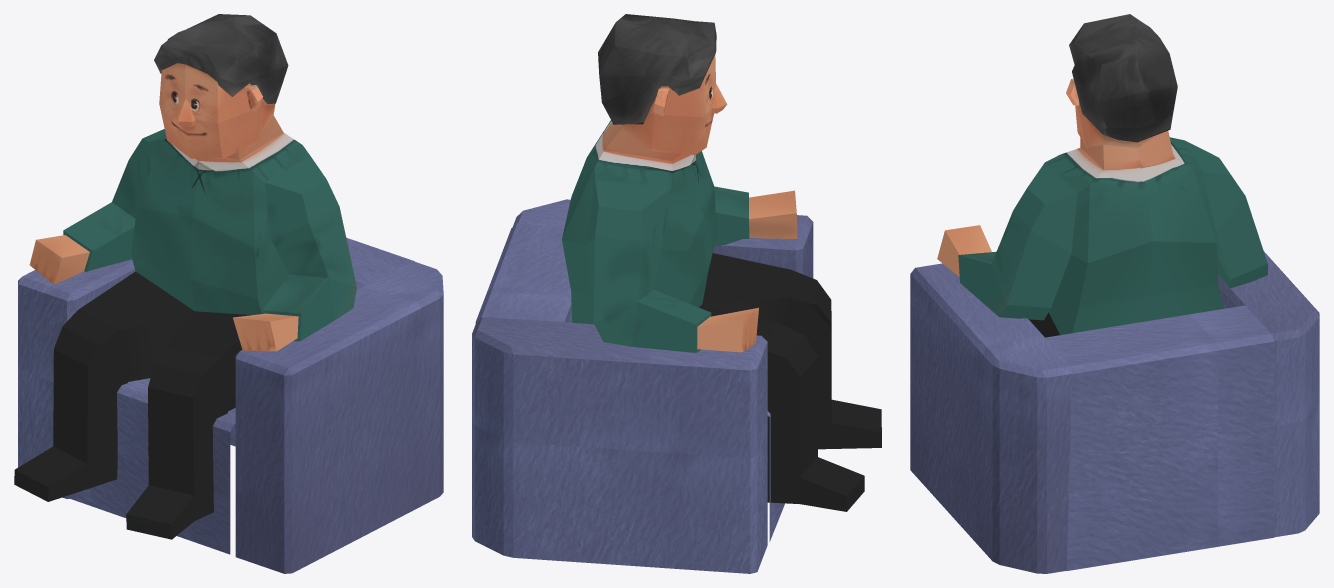
The model's file is man.gltf.
The picture shows the model from 3 angles, left to right: view 1: azimuth 30°, elevation 25°; view 2: azimuth 150°, elevation 25°; view 3: azimuth 270°, elevation 25°; orthographic projection. The views are drawn at different scales.
Visible parts, largest first — view 1: Cube.076, Cube.137; view 2: Cube.137, Cube.076; view 3: Cube.137, Cube.076.
Boxes of the visible parts, x1,y1,x2,y2 form: Cube.076: (14, 14, 356, 539); Cube.137: (18, 237, 443, 573); Cube.137: (472, 199, 813, 573); Cube.076: (562, 14, 881, 511); Cube.137: (910, 251, 1319, 573); Cube.076: (937, 14, 1267, 337).
Size of the model in its own units: 6.28 by 7.42 by 6.03.
Materials: 2 (1 with a texture image).
